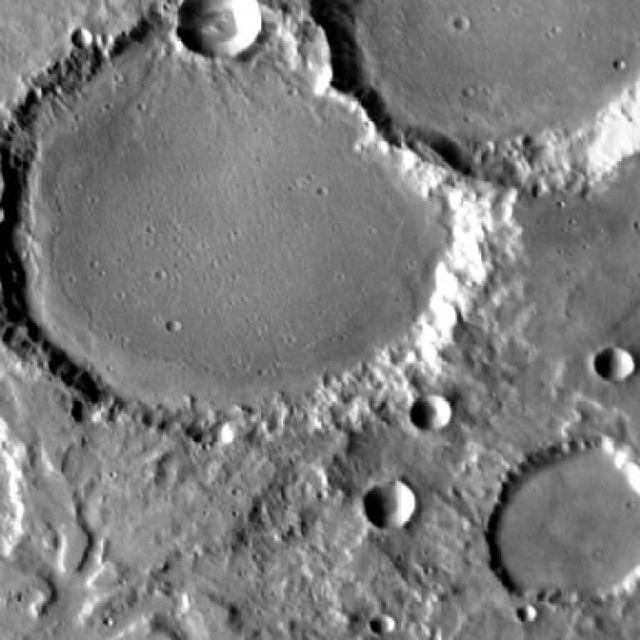crater: (0, 0, 495, 437), (321, 0, 640, 181), (491, 436, 640, 604), (184, 0, 268, 54), (360, 480, 418, 529), (414, 387, 458, 425), (598, 348, 639, 384), (374, 620, 395, 638), (455, 10, 474, 28), (78, 19, 97, 36)
